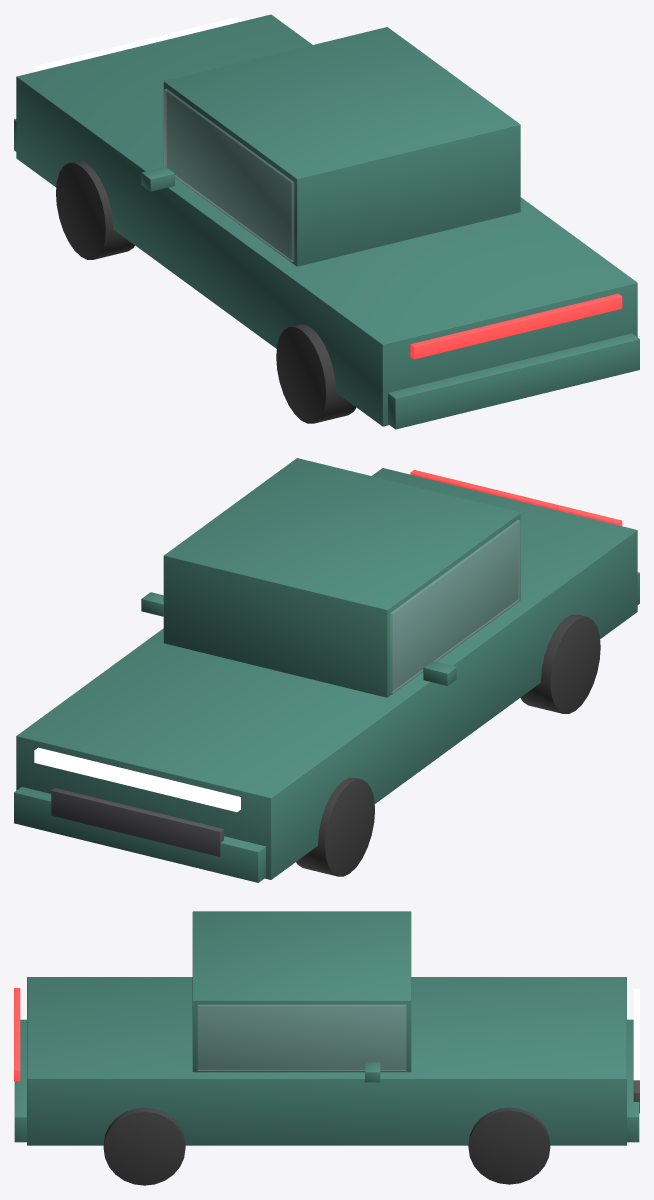
Rendered from vehicle.glb.
The picture shows the model from 3 angles, top to bottom: view 1: azimuth 30°, elevation 25°; view 2: azimuth 150°, elevation 25°; view 3: azimuth 270°, elevation 25°; orthographic projection. The views are drawn at different scales.
Parts seen in each view (by area): view 1: BODY_Main, BODY_Roof, GLASS_Greenhouse, BODY_Bumpers_Rear, WHEEL_RR_Tire, WHEEL_FR_Tire, LIGHT_Taillights, LIGHT_Headlights, BODY_Mirror_R; view 2: BODY_Main, BODY_Roof, GLASS_Greenhouse, BODY_Bumpers_Front, BODY_Grille, WHEEL_RR_Tire, WHEEL_FR_Tire, LIGHT_Headlights, LIGHT_Taillights, BODY_Mirror_R; view 3: BODY_Main, BODY_Roof, GLASS_Greenhouse, WHEEL_RL_Tire, WHEEL_FL_Tire, BODY_Bumpers_Rear, BODY_Bumpers_Front, LIGHT_Taillights, LIGHT_Headlights.
Boxes of the visible parts, x1,y1,x2,y2 form: BODY_Main: (16, 14, 637, 426); BODY_Roof: (163, 27, 520, 266); GLASS_Greenhouse: (164, 89, 293, 261); BODY_Bumpers_Rear: (388, 333, 639, 429); WHEEL_RR_Tire: (276, 324, 356, 423); WHEEL_FR_Tire: (56, 161, 134, 259); LIGHT_Taillights: (410, 293, 622, 359); LIGHT_Headlights: (34, 17, 240, 71); BODY_Mirror_R: (141, 166, 174, 191); BODY_Main: (16, 468, 637, 879); BODY_Roof: (163, 458, 520, 697); GLASS_Greenhouse: (390, 520, 520, 693); BODY_Bumpers_Front: (14, 787, 265, 882); BODY_Grille: (51, 788, 223, 856); WHEEL_RR_Tire: (520, 614, 600, 713); WHEEL_FR_Tire: (296, 777, 374, 876); LIGHT_Headlights: (34, 747, 240, 812); LIGHT_Taillights: (410, 470, 622, 525); BODY_Mirror_R: (423, 661, 456, 685); BODY_Main: (27, 977, 626, 1145); BODY_Roof: (192, 911, 411, 1072); GLASS_Greenhouse: (197, 1005, 406, 1070); WHEEL_RL_Tire: (103, 1107, 185, 1185); WHEEL_FL_Tire: (468, 1107, 550, 1184); BODY_Bumpers_Rear: (14, 1019, 26, 1142); BODY_Bumpers_Front: (627, 1019, 639, 1142); LIGHT_Taillights: (14, 988, 20, 1081); LIGHT_Headlights: (633, 989, 639, 1080).
Size of the model in its own units: 2.26 by 1.51 by 4.89.
